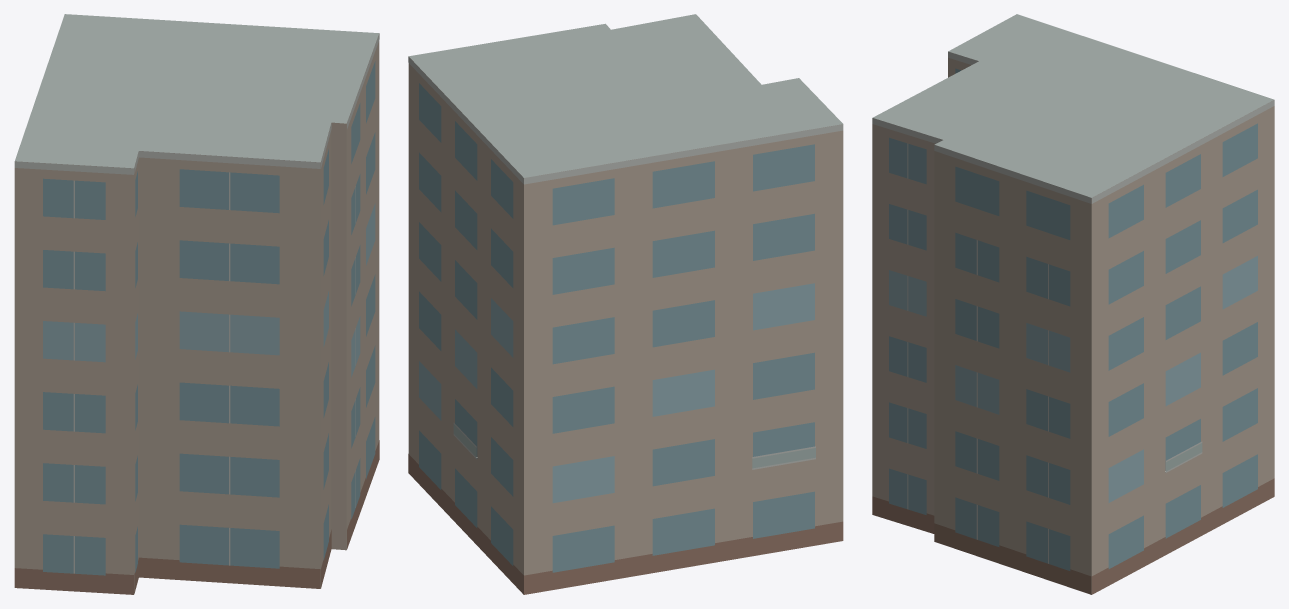
Rendered from survey-upis-32881881.glb.
3 views of the same model, side by side, from view 1: azimuth 30°, elevation 25°; view 2: azimuth 150°, elevation 25°; view 3: azimuth 270°, elevation 25° (orthographic). The views are drawn at different scales.
Parts seen in each view (by area): view 1: survey-upis-32881881.tmp; view 2: survey-upis-32881881.tmp; view 3: survey-upis-32881881.tmp.
Part boxes in pixels (box(x1,y1,x2,y2)): survey-upis-32881881.tmp: box(14, 14, 379, 594); survey-upis-32881881.tmp: box(408, 14, 843, 594); survey-upis-32881881.tmp: box(872, 14, 1274, 594).
Bounding box in the file's own units: 15.6 × 15.7 × 14.42.
